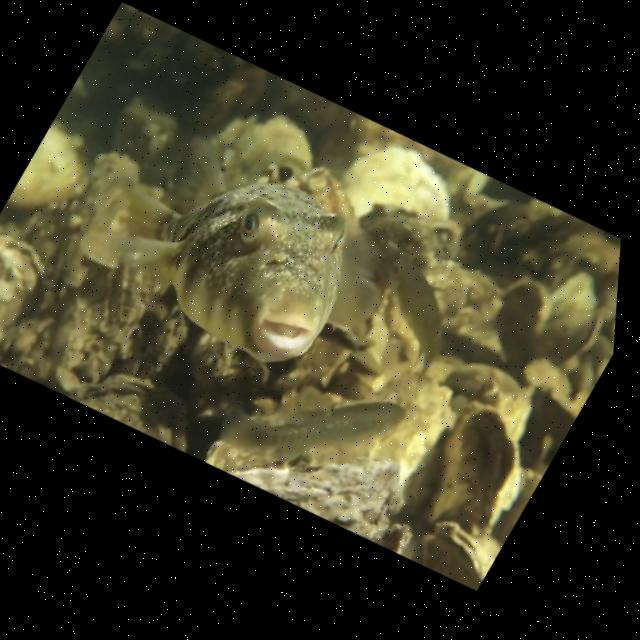Oyster-Closed: (419, 517, 487, 584)
Oyster-Indeterminate: (67, 371, 192, 452), (452, 406, 526, 537), (400, 427, 460, 525), (0, 232, 49, 322), (503, 277, 556, 348), (552, 313, 606, 367)
